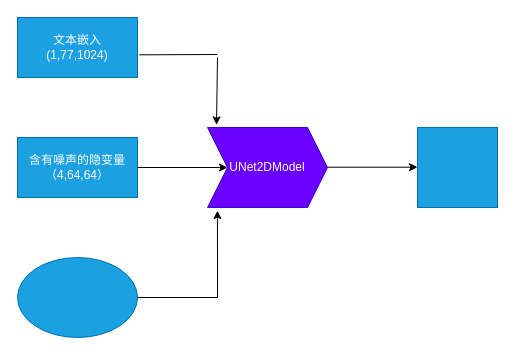
The diagram is 515 pixels wide and 355 high, and some of its shapes have lost their labels. The centre of each missing label's shape, as x and y in pixels:
噪声预测 (4,64,64): pixel 457 167
时间步: pixel 77 297
